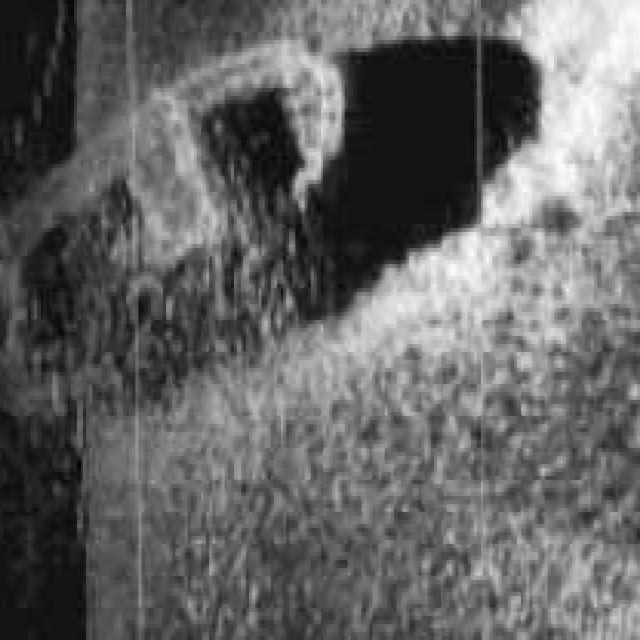Ship: (2, 26, 354, 435)
